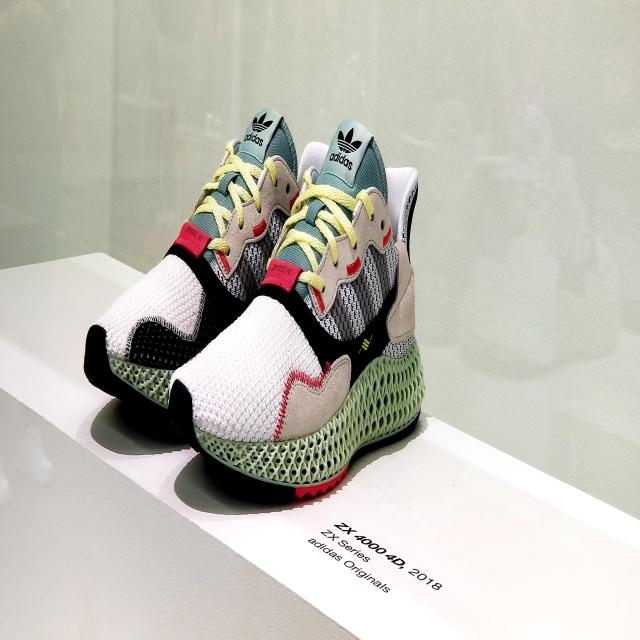shoe: (188, 100, 439, 449), (65, 77, 287, 392)
